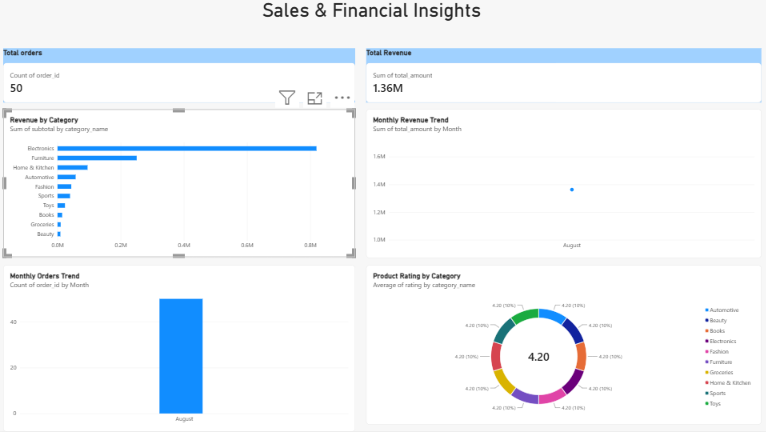

Layout of this report page (visuals, bound fields, positions):
{"tool":"powerbi","page":{"name":"Sales & Financial Analysis","canvas":[1920,1080],"ordinal":3},"visuals":[{"type":"textbox","box":[658,0,732,122],"z":0},{"type":"lineChart","title":"Monthly Revenue Trend","fields":{"Category":["ecommerce_analytics orders.order_date.Variation.Date Hierarchy.Month"],"Y":["Sum(ecommerce_analytics orders.total_amount)"]},"box":[918,274,988,372],"z":1},{"type":"clusteredBarChart","title":"Revenue by Category","fields":{"Category":["ecommerce_analytics categories.category_name"],"Y":["Sum(ecommerce_analytics orders.total_amount)"]},"box":[10,274,880,372],"z":2},{"type":"donutChart","title":"Product Rating by Category","fields":{"Category":["ecommerce_analytics categories.category_name"],"Y":["Avg(ecommerce_analytics reviews.rating)"]},"box":[918,664,988,398],"z":3},{"type":"clusteredColumnChart","title":"Monthly Orders Trend","fields":{"Category":["ecommerce_analytics orders.order_date.Variation.Date Hierarchy.Month"],"Y":["Count(ecommerce_analytics order_items.order_id)"]},"box":[10,664,880,416],"z":4},{"type":"cardVisual","title":"Total Revenue","fields":{"Data":["Sum(ecommerce_analytics orders.total_amount)"]},"box":[918,122,988,136],"z":5},{"type":"cardVisual","title":"Total orders","fields":{"Data":["Count(ecommerce_analytics order_items.order_id)"]},"box":[10,122,880,136],"z":6}]}

Visuals, with their boxes in screenshot pixels (x1, y1, x2, y2), scaled from the page's 1920x1080 canvas onto the 766x432 screenshot:
textbox: {"left": 263, "top": 0, "right": 555, "bottom": 49}
"Monthly Revenue Trend" lineChart: {"left": 366, "top": 110, "right": 760, "bottom": 258}
"Revenue by Category" clusteredBarChart: {"left": 4, "top": 110, "right": 355, "bottom": 258}
"Product Rating by Category" donutChart: {"left": 366, "top": 266, "right": 760, "bottom": 425}
"Monthly Orders Trend" clusteredColumnChart: {"left": 4, "top": 266, "right": 355, "bottom": 431}
"Total Revenue" cardVisual: {"left": 366, "top": 49, "right": 760, "bottom": 103}
"Total orders" cardVisual: {"left": 4, "top": 49, "right": 355, "bottom": 103}
